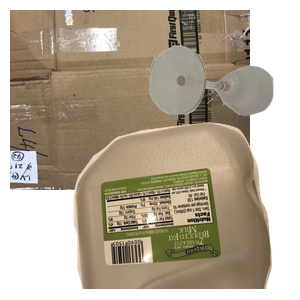cardboard: (10, 10, 250, 190)
glass: (147, 43, 300, 151)
plastic: (71, 120, 300, 300)
trash: (109, 175, 279, 300)
